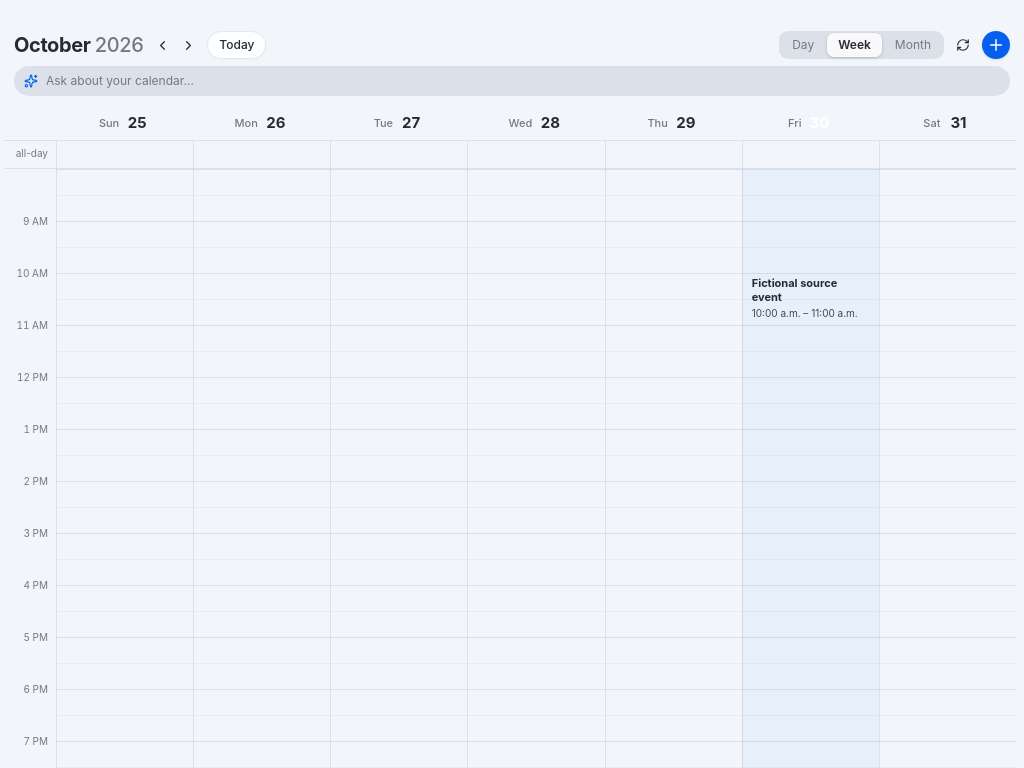
Test case: keeps link failures by the event and prevents concurrent repeated submissions
The image size is (1024, 768).
Click the button "Fictional source event 10:00 a.m. – 11:00 a.m.".
click(811, 298)  # box x1=746 y1=273 x2=876 y2=323
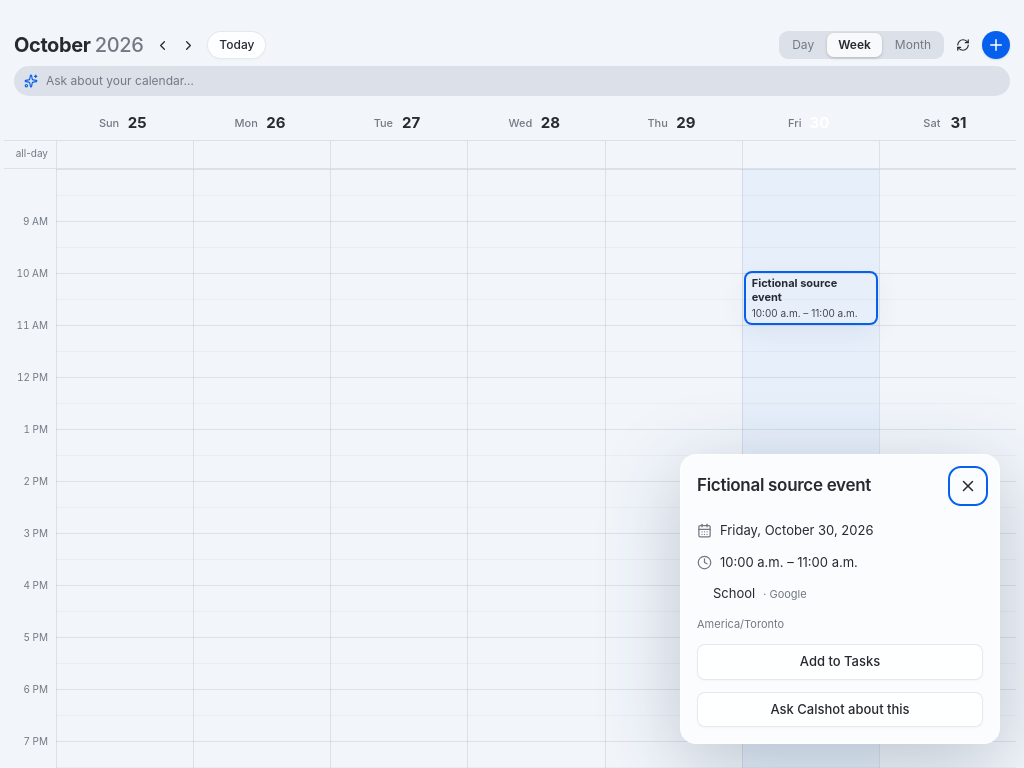
Click the button "Add to Tasks".
click(840, 662)  # box x1=697 y1=644 x2=983 y2=680
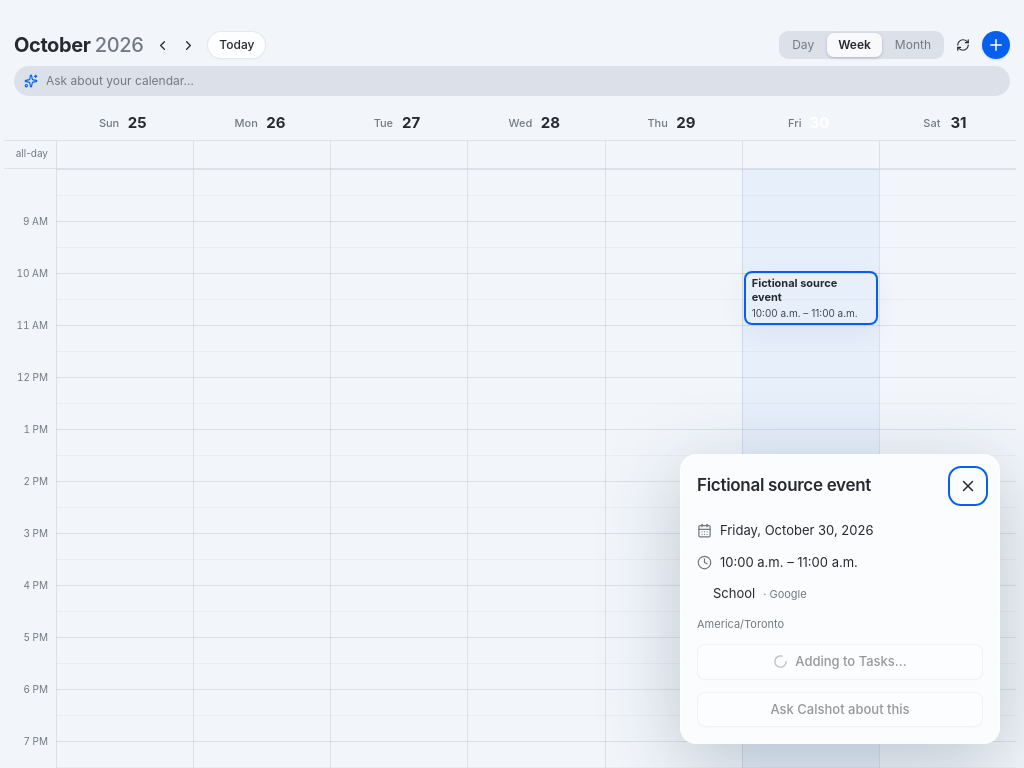
Click the button named "Add to Tasks".
click(840, 662)  # box x1=697 y1=644 x2=983 y2=680
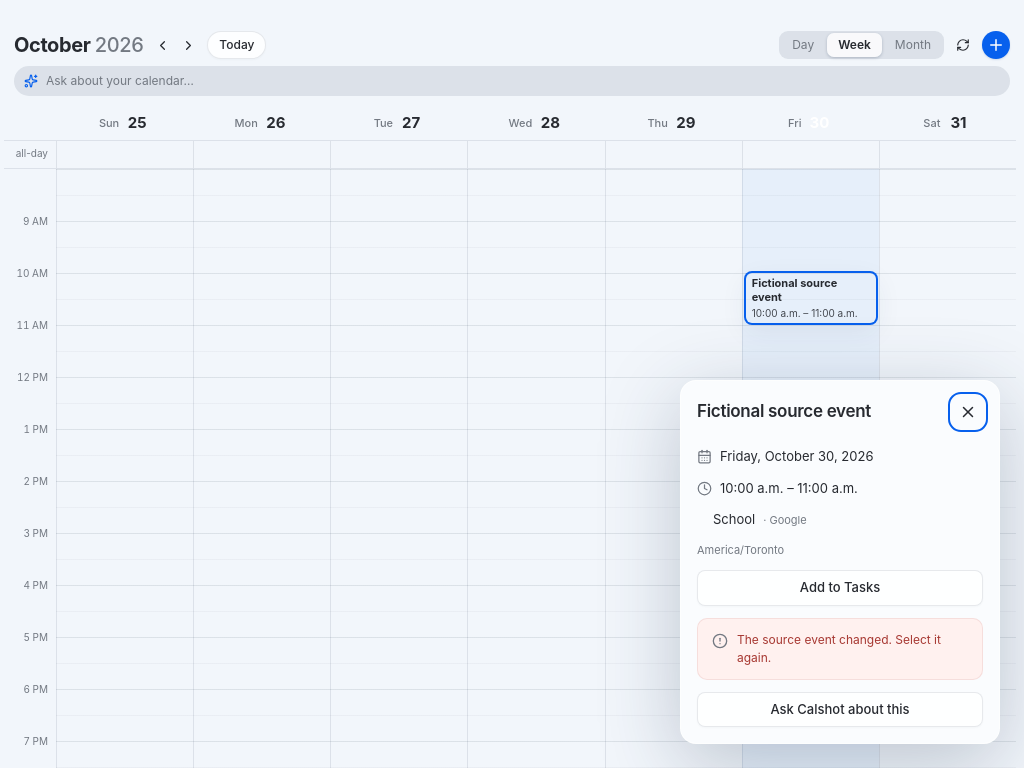
Expected: the dialog "Fictional source event" is shown, x1=680 y1=380 x2=1000 y2=744
Expected: the message shows "The source event changed", x1=737 y1=632 x2=941 y2=664
